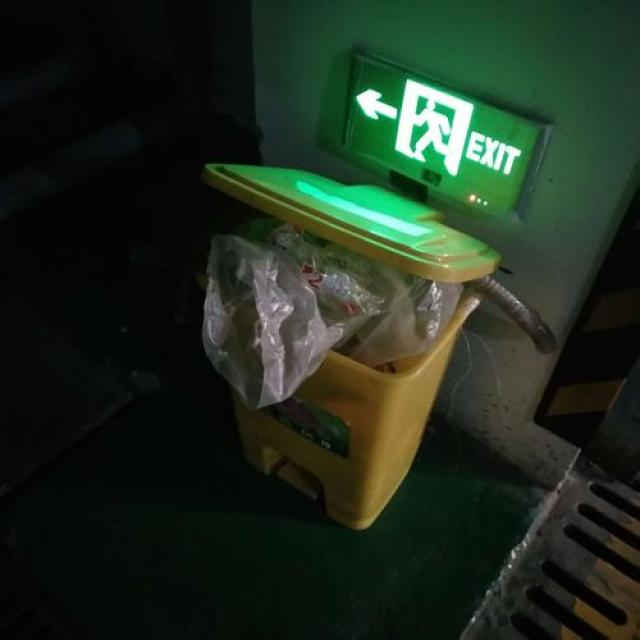overflow: (200, 161, 554, 529)
